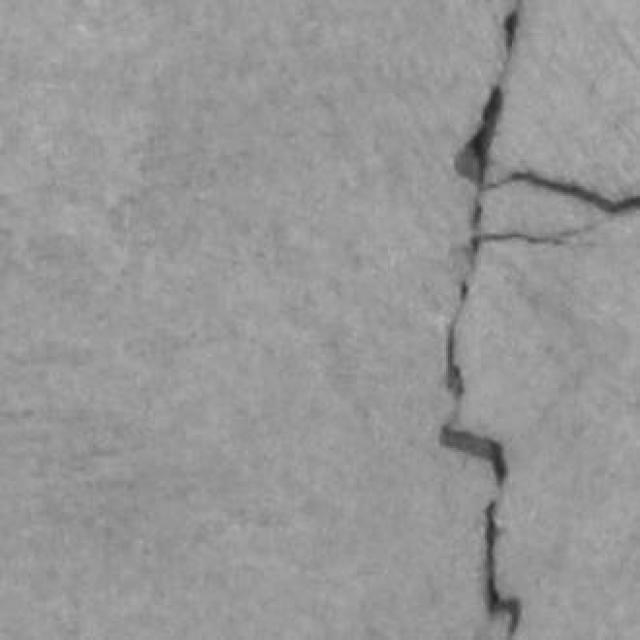crack: (441, 2, 519, 488), (485, 171, 639, 215), (485, 501, 521, 634), (441, 425, 508, 486), (476, 225, 595, 246)
